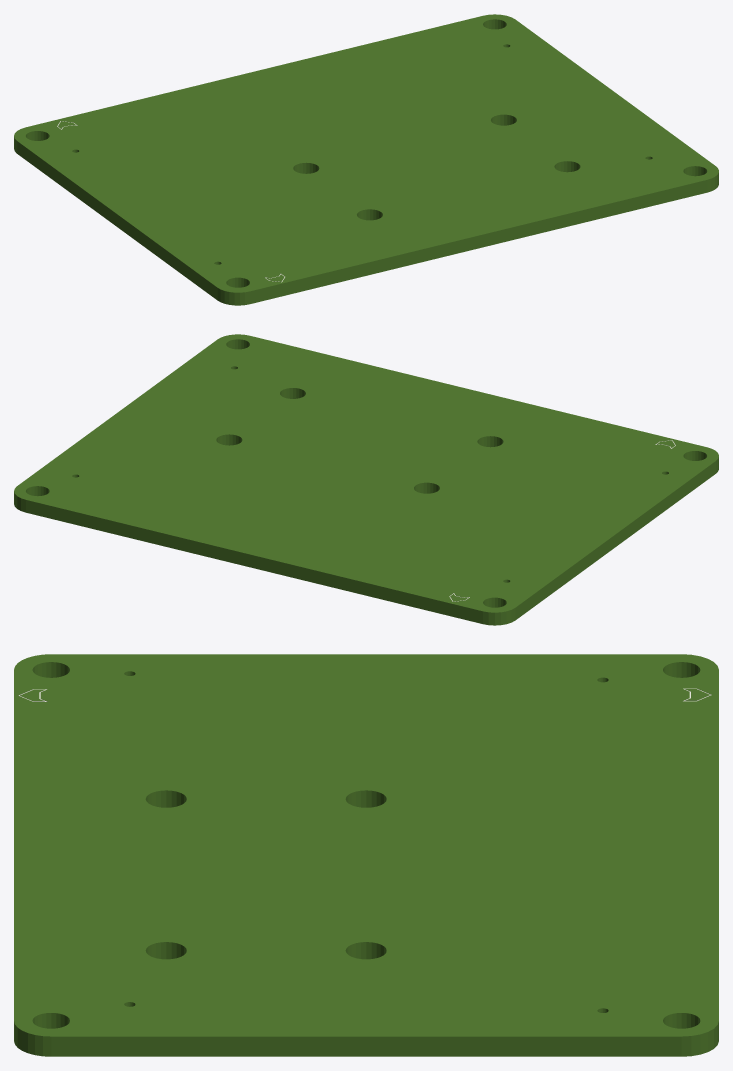
The model's file is kria_kv_260_SOM_BOARD_OUTLINE_SOM_BOARD_OUTLINE.obj.
3 views of the same model, one above another, from view 1: azimuth 30°, elevation 25°; view 2: azimuth 150°, elevation 25°; view 3: azimuth 270°, elevation 25° (orthographic). The views are drawn at different scales.
Size of the model in its own units: 0.077 by 0.0019 by 0.06.
